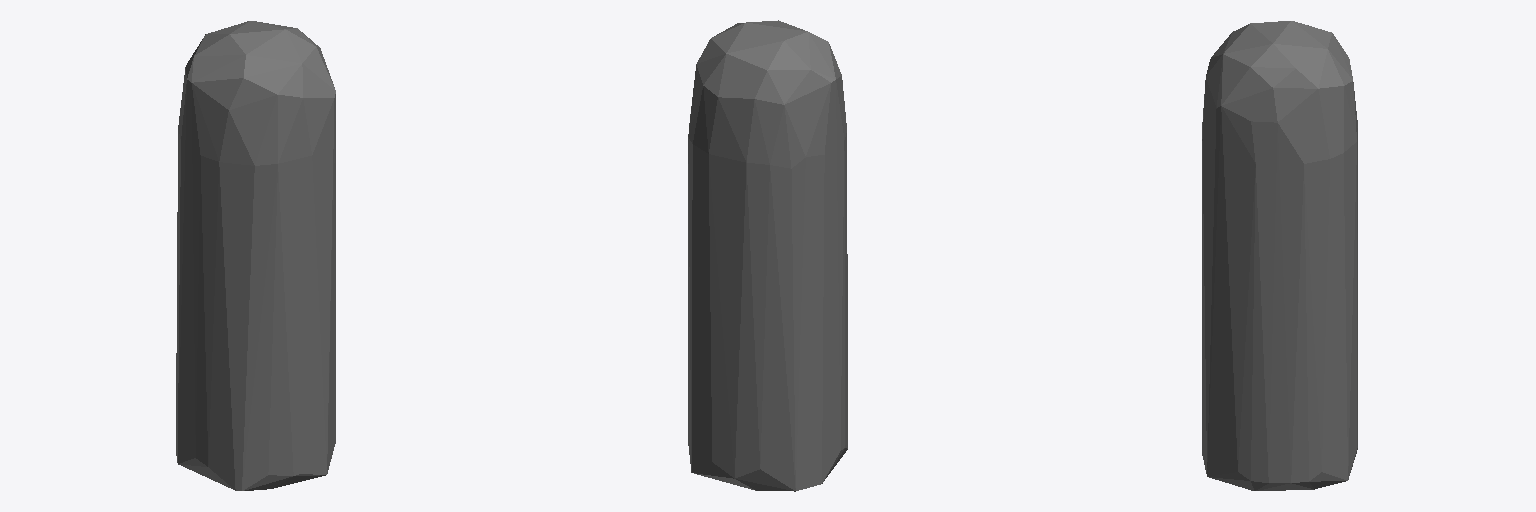
robot.urdf — shampoo_new_002:
<?xml version="1.0" ?>
<robot name="shampoo_new_002">
  <material name="color">
    <color rgba=".5 .5 .5 1"/>
  </material>

  <link name="base_link">
    <contact>
      <lateral_friction value="1.0"/>
      <rolling_friction value="0.001"/>
      <spinning_friction value="0.001"/>
      <inertia_scaling value="1.0"/>
    </contact>
    <inertial>
      <origin rpy="0 0 0" xyz="-6.88774e-07 2.32923e-06 0.00685234"/>
       <mass value="0.1"/>
       <inertia ixx="1" ixy="0" ixz="0" iyy="1" iyz="0" izz="1"/>
    </inertial>

    <visual>
      <origin rpy="0 0 0" xyz="0 0 0"/>
      <geometry>
        <mesh filename="shampoo_new_002_vhacd_0_of_1.obj" scale="1 1 1"/>
      </geometry>
      <material name="color"/>
    </visual>

    <collision>
      <origin rpy="0 0 0" xyz="0 0 0"/>
      <geometry>
        <mesh filename="shampoo_new_002_vhacd_0_of_1.obj" scale="1 1 1"/>
      </geometry>
    </collision>

  </link>
</robot>

--- Render facts (derived) ---
3 views of the same robot in one strip: view 1: azimuth 30°, elevation 25°; view 2: azimuth 150°, elevation 25°; view 3: azimuth 270°, elevation 25° (orthographic).
Model shampoo_new_002 with 1 links and 0 joints (none), rooted at base_link, posed all joints at 0.
Visible links, largest first — view 1: base_link; view 2: base_link; view 3: base_link.
Link boxes in pixels (<box>): base_link: <box>176,21,335,490</box>; base_link: <box>688,20,847,491</box>; base_link: <box>1202,21,1357,490</box>.
Size in the robot's own frame: 0.0606 by 0.0609 by 0.1851 metres.
1 mesh visuals loaded from 1 distinct referenced files (1 OBJ).